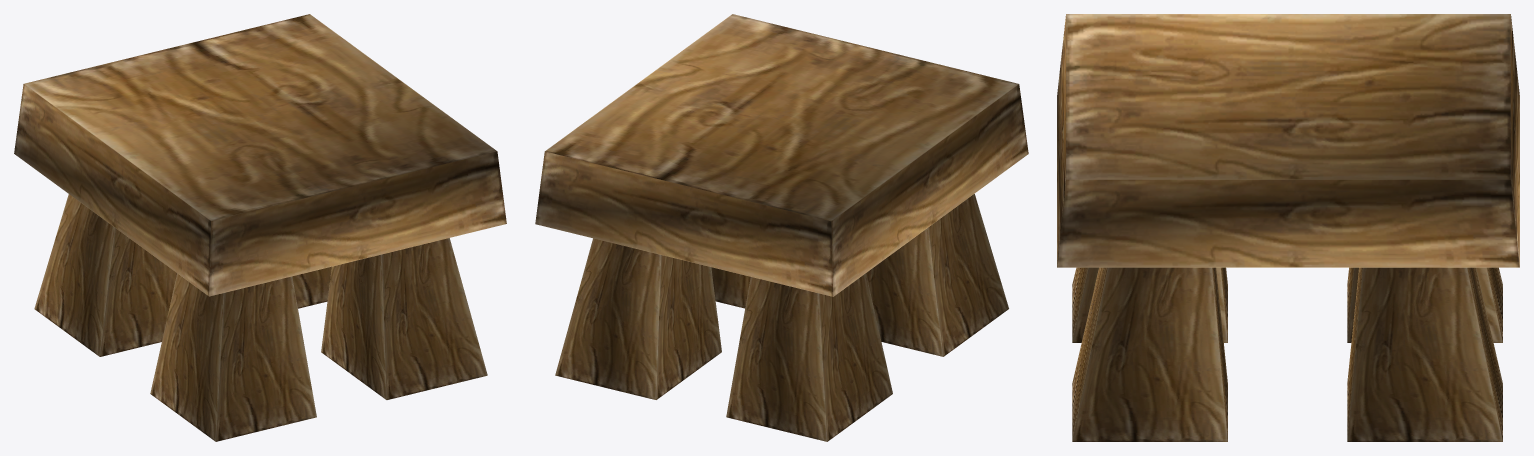
File: inntabletiny.obj
3 renders of one model, left to right at view 1: azimuth 30°, elevation 25°; view 2: azimuth 150°, elevation 25°; view 3: azimuth 270°, elevation 25°, orthographic. The views are drawn at different scales.
Parts seen in each view (by area): view 1: inntabletiny.m2; view 2: inntabletiny.m2; view 3: inntabletiny.m2.
Part boxes in pixels (x1,y1,x2,y2): inntabletiny.m2: (14,14,506,441); inntabletiny.m2: (535,14,1028,441); inntabletiny.m2: (1057,14,1519,441).
Size of the model in its own units: 1.56 by 1.12 by 1.77.
1 material, 1 textured.
